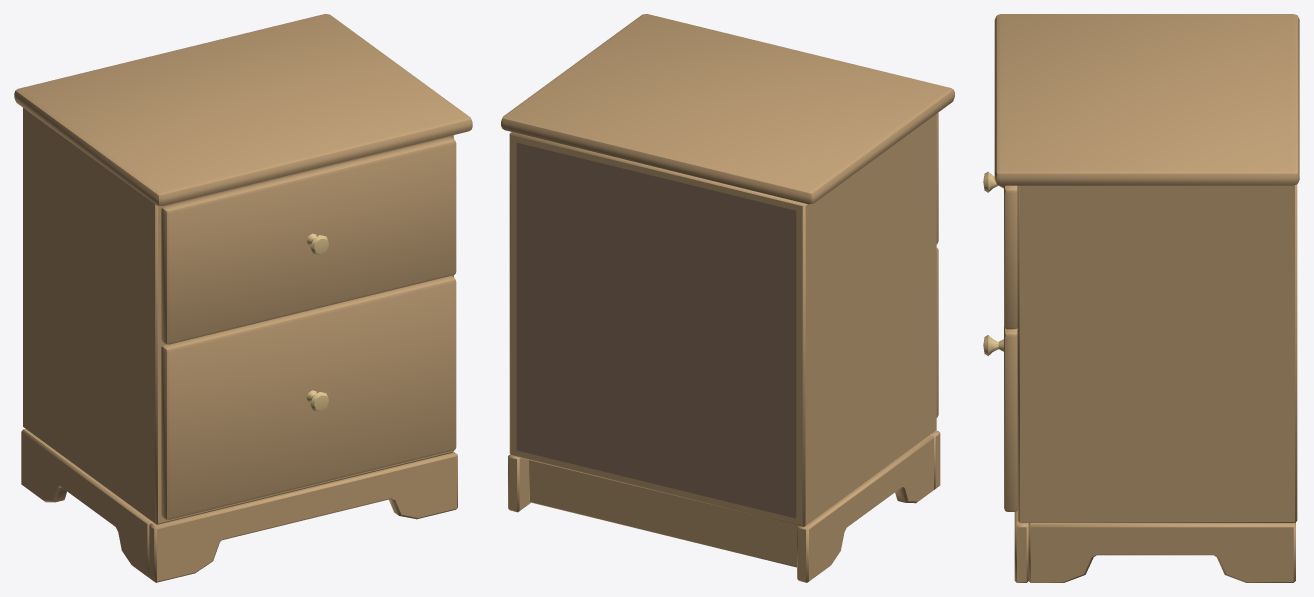
Rendered from Kit_Nightstand2.fbx.
The picture shows the model from 3 angles, left to right: view 1: azimuth 30°, elevation 25°; view 2: azimuth 150°, elevation 25°; view 3: azimuth 270°, elevation 25°; orthographic projection. The views are drawn at different scales.
Parts seen in each view (by area): view 1: Kit_Nightstand2_LOD0; view 2: Kit_Nightstand2_LOD0; view 3: Kit_Nightstand2_LOD0.
Boxes of the visible parts, x1,y1,x2,y2 form: Kit_Nightstand2_LOD0: [14, 14, 472, 582]; Kit_Nightstand2_LOD0: [501, 14, 954, 582]; Kit_Nightstand2_LOD0: [983, 14, 1299, 582].
Size of what is drawn, in the model's own units: 0.5 by 0.6 by 0.415.
